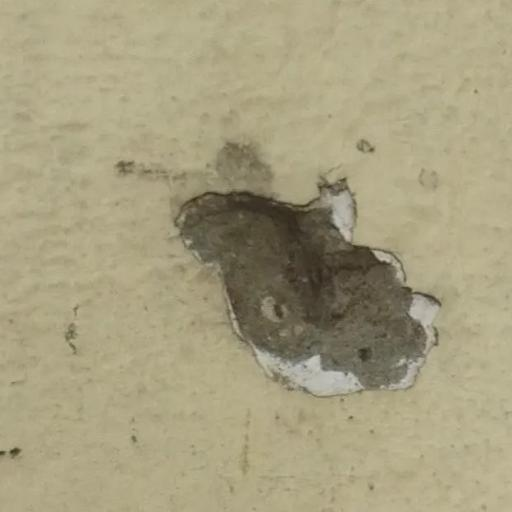spalling: (151, 157, 454, 426)
